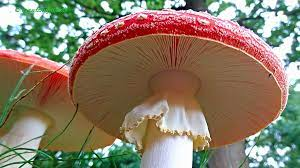Amanita muscaria: (63, 7, 291, 150), (0, 46, 120, 165)
